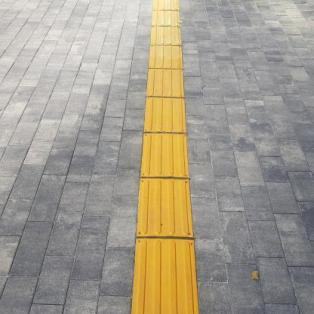Podoctatil: (125, 0, 205, 313)
